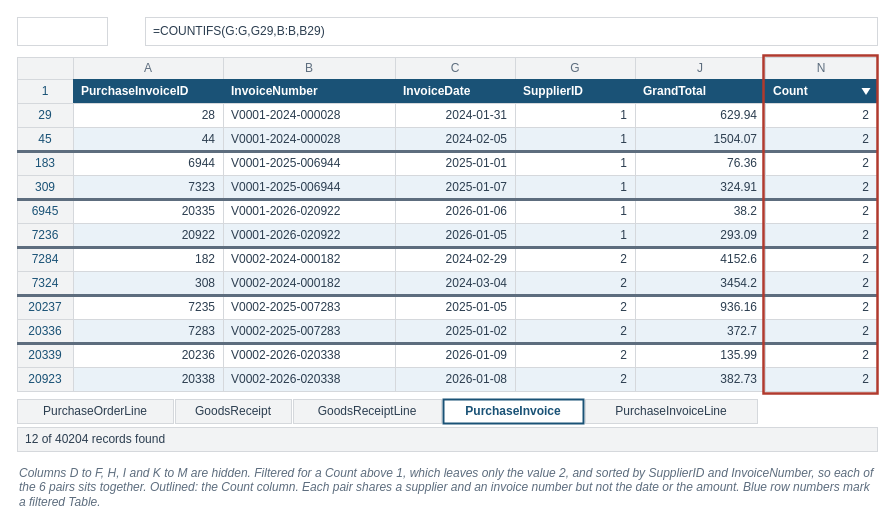
This 896x531 diagram has some shape labels left out. The shapes that lost their labels are listed below. From the top down, each one's box as (x1, y1, x2, y2) in pixels, then its label:
(16, 16, 108, 46): N29
(110, 16, 142, 46): fx
